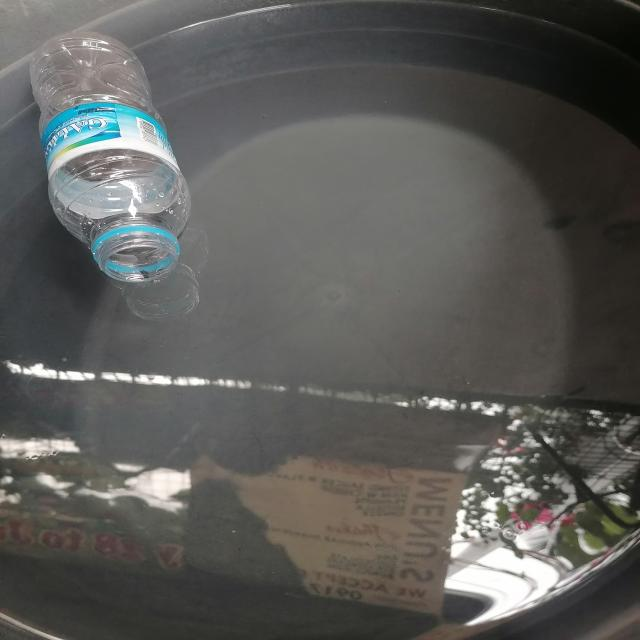Plastic Bottle: (30, 33, 190, 283)
